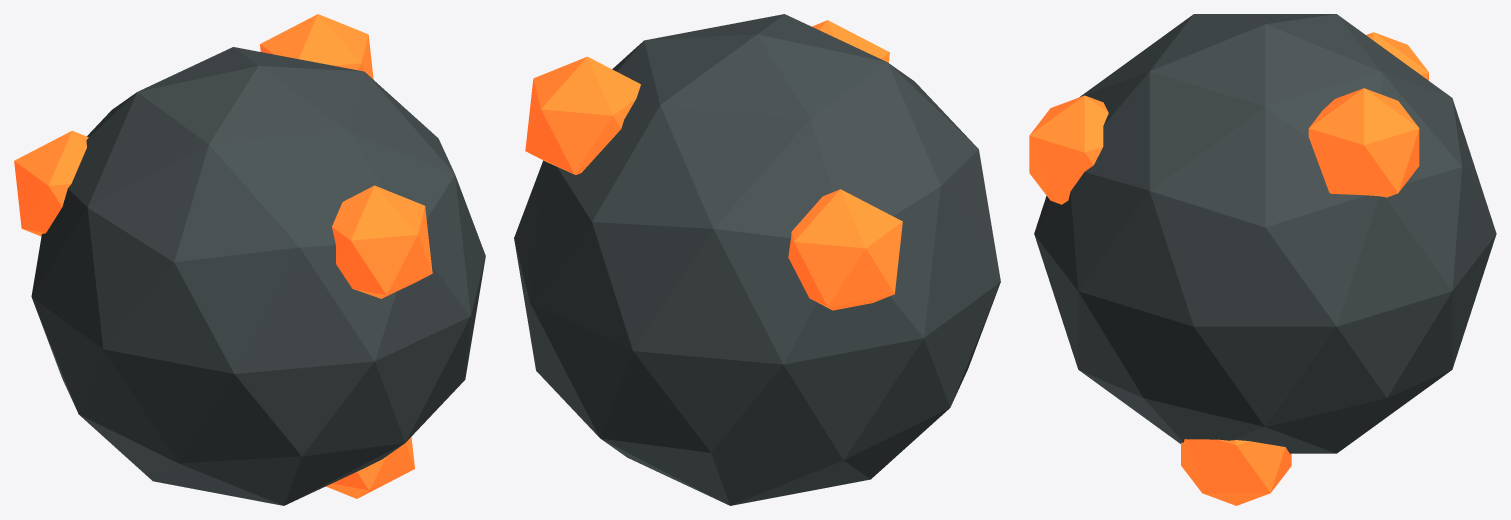
File: shot_meteor.glb
3 views of the same model, side by side, from view 1: azimuth 30°, elevation 25°; view 2: azimuth 150°, elevation 25°; view 3: azimuth 270°, elevation 25° (orthographic). The views are drawn at different scales.
Visible parts, largest first — view 1: shot_meteor_RunningGear.008, shot_meteor_Lava.003; view 2: shot_meteor_RunningGear.008, shot_meteor_Lava.003; view 3: shot_meteor_RunningGear.008, shot_meteor_Lava.003.
Part boxes in pixels (bbox=[...]): shot_meteor_RunningGear.008: bbox=[31, 47, 485, 505]; shot_meteor_Lava.003: bbox=[14, 14, 432, 498]; shot_meteor_RunningGear.008: bbox=[514, 14, 1000, 505]; shot_meteor_Lava.003: bbox=[525, 20, 902, 310]; shot_meteor_RunningGear.008: bbox=[1034, 14, 1496, 453]; shot_meteor_Lava.003: bbox=[1029, 32, 1428, 505].
Bounding box in the file's own units: 1.83 × 2.02 × 1.94.
